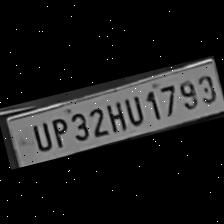1: (140, 86, 163, 124)
2: (82, 102, 109, 140)
3: (192, 70, 218, 106), (65, 108, 90, 144)
7: (153, 80, 180, 119)
9: (172, 76, 200, 114)
H: (100, 96, 128, 134)
P: (45, 113, 71, 150)
U: (120, 91, 146, 129), (27, 118, 52, 154)
